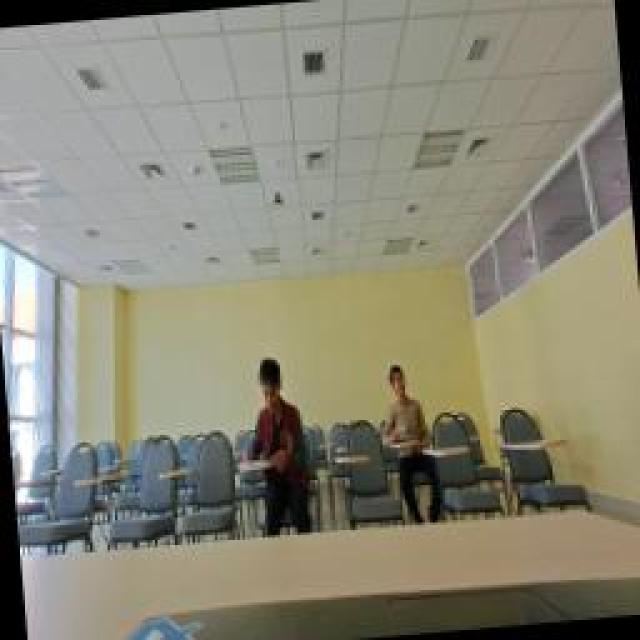study: (235, 352, 307, 470), (375, 360, 430, 450)
